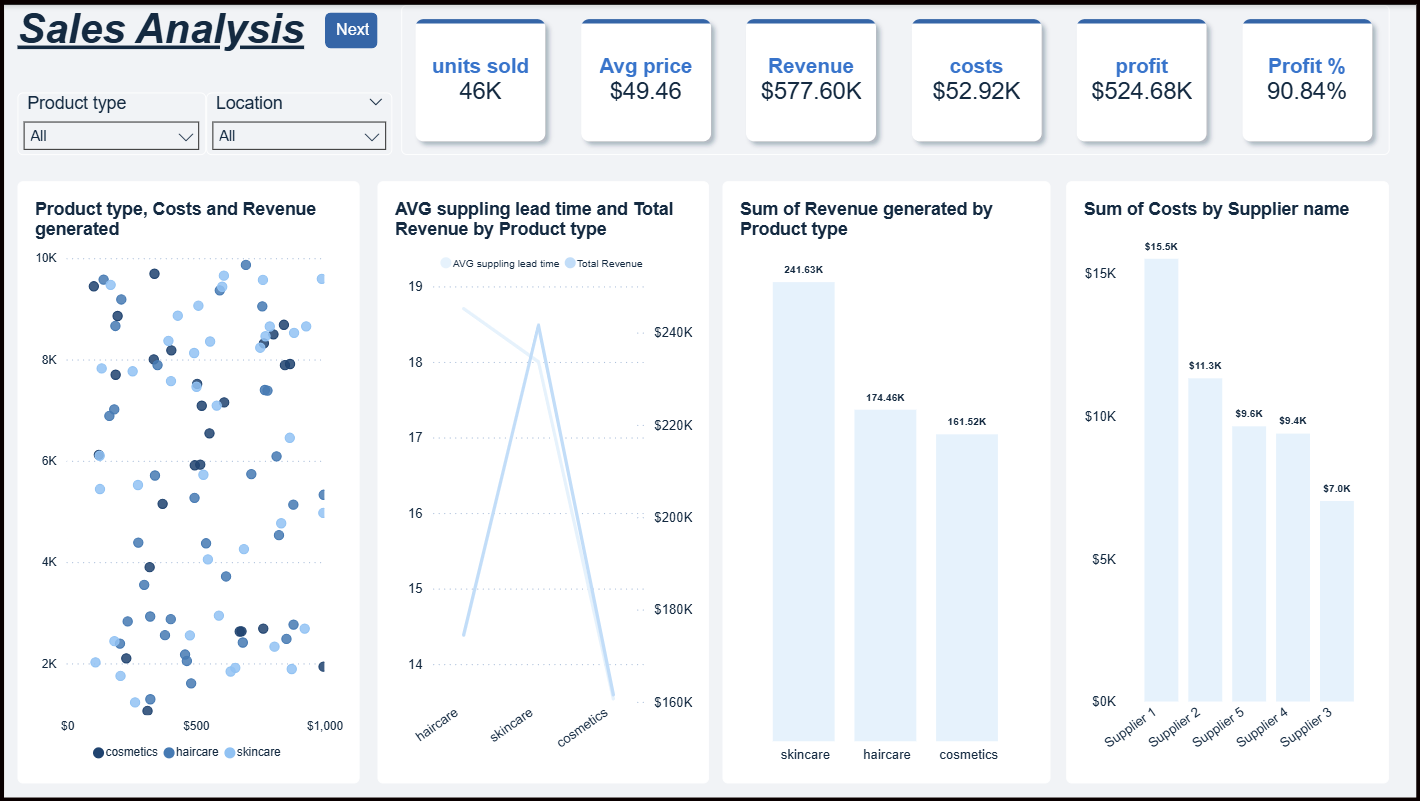

What the dashboard file says about the page in this screenshot:
{"tool":"powerbi","page":{"name":"Sales","canvas":[1280,720],"ordinal":0},"visuals":[{"type":"cardVisual","fields":{"Data":["Key Measures.units sold","Key Measures.Avg price","Key Measures.Total Revenue","Key Measures.Total costs","Key Measures.Total profit","Key Measures.Profit margin"]},"box":[359.3,0,896.5,136],"z":0},{"type":"clusteredColumnChart","fields":{"Category":["supply_chain_data.Product type"],"Y":["Sum(supply_chain_data.Revenue generated)"]},"box":[651.2,160.5,297.7,546.5],"z":1000},{"type":"scatterChart","fields":{"X":["supply_chain_data.Costs"],"Y":["supply_chain_data.Revenue generated"],"Series":["supply_chain_data.Product type"]},"box":[11.6,160.5,310.5,546.5],"z":2000},{"type":"clusteredColumnChart","fields":{"Category":["supply_chain_data.Supplier name"],"Y":["Sum(supply_chain_data.Costs)"]},"box":[962.8,160.5,293,546.5],"z":3000},{"type":"lineChart","fields":{"Category":["supply_chain_data.Product type"],"Y2":["Key Measures.Total Revenue"],"Y":["Key Measures.AVG suppling lead time"]},"box":[338.4,160.5,301.2,546.5],"z":4000},{"type":"slicer","fields":{"Values":["supply_chain_data.Location"]},"box":[182.6,79.1,168.6,57],"z":5000},{"type":"slicer","fields":{"Values":["supply_chain_data.Product type"]},"box":[11.6,79.1,170.9,57],"z":6000},{"type":"textbox","box":[11.6,0,268.6,53.5],"z":7000},{"type":"actionButton","box":[290.7,7,47.7,32.6],"z":8000}]}

Visuals, with their boxes in screenshot pixels (x1, y1, x2, y2), scaled from the page's 1280x720 canvas onto the 1420x801 screenshot:
cardVisual - Key Measures.units sold x Key Measures.Avg price: [399,0,1393,151]
clusteredColumnChart - supply_chain_data.Product type x Sum(supply_chain_data.Revenue generated): [722,179,1053,787]
scatterChart - supply_chain_data.Costs x supply_chain_data.Revenue generated: [13,179,357,787]
clusteredColumnChart - supply_chain_data.Supplier name x Sum(supply_chain_data.Costs): [1068,179,1393,787]
lineChart - supply_chain_data.Product type x Key Measures.Total Revenue: [375,179,710,787]
slicer - supply_chain_data.Location: [203,88,390,151]
slicer - supply_chain_data.Product type: [13,88,202,151]
textbox: [13,0,311,60]
actionButton: [322,8,375,44]
